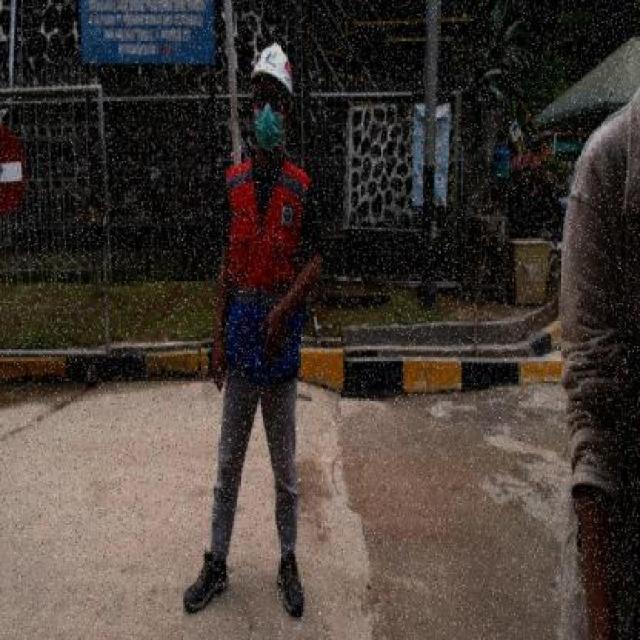Boots: (182, 546, 230, 611), (272, 548, 305, 615)
Helmet: (250, 34, 296, 104)
Mask: (250, 102, 290, 153)
